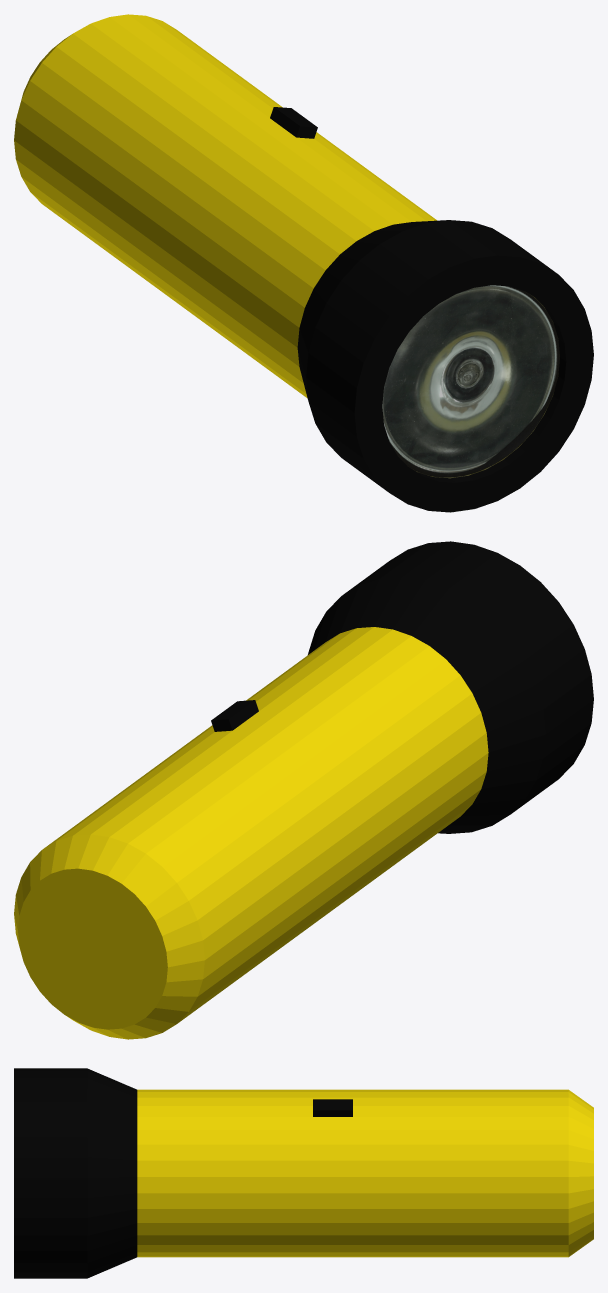
File: flashlight.fbx
3 views of the same model, one above another, from view 1: azimuth 30°, elevation 25°; view 2: azimuth 150°, elevation 25°; view 3: azimuth 270°, elevation 25° (orthographic). The views are drawn at different scales.
Visible parts, largest first — view 1: Cylinder; view 2: Cylinder; view 3: Cylinder.
Part boxes in pixels (box(x1,y1,x2,y2)): Cylinder: box(14, 14, 593, 512); Cylinder: box(14, 541, 593, 1039); Cylinder: box(14, 1068, 593, 1278).
Size of the model in its own units: 1.36 by 1.36 by 3.75.
